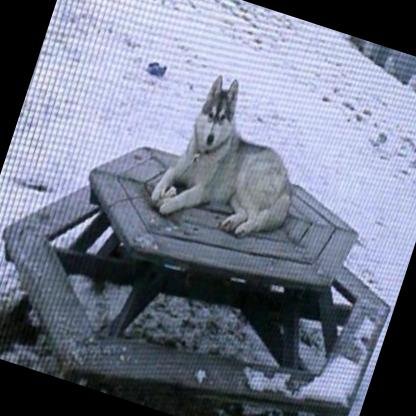Siberian_husky: (148, 63, 324, 251)
